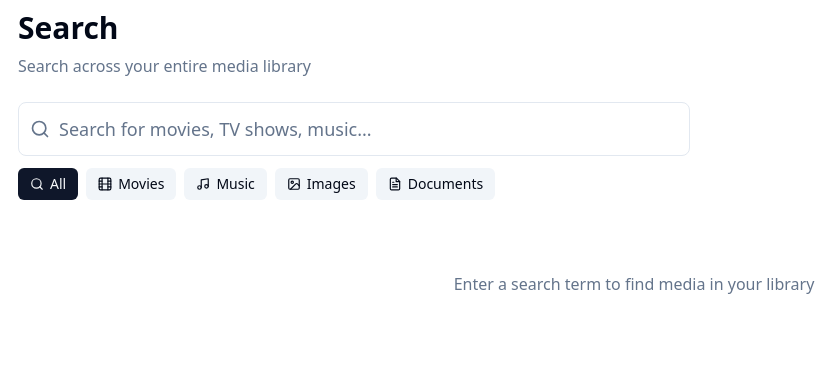
Scenario: SearchPage › performs a debounced search when user types a query
Step 1. Type "Test Movie" into the field with placeholder "Search for movies, TV shows, music..." → point(354, 129), box [18,102,690,156]
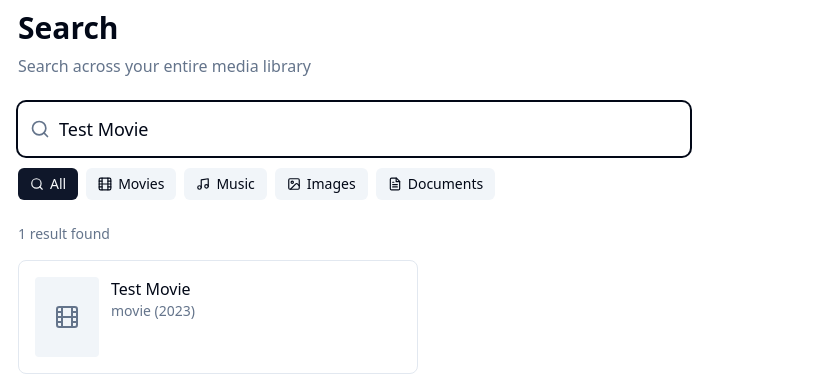
Now the text "1 result found" is shown, box [18,224,110,243]
Now the heading "Test Movie" is shown, box [111,278,191,300]
